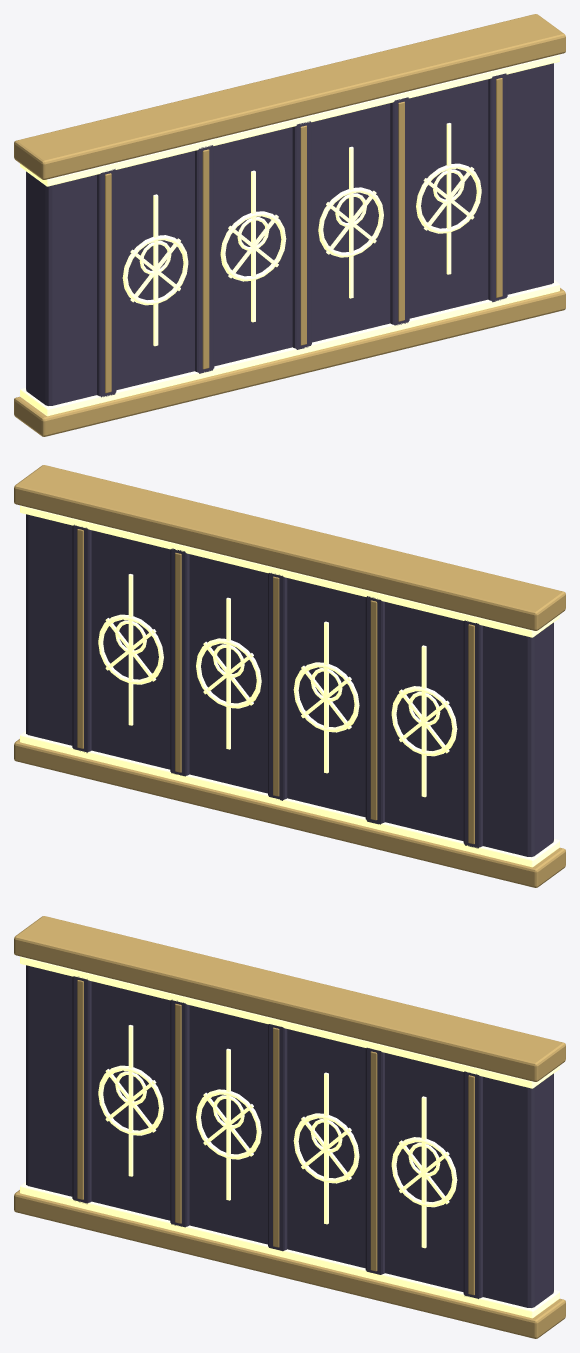
The model's file is obsidian_monolith.glb.
The picture shows the model from 3 angles, top to bottom: view 1: azimuth 30°, elevation 25°; view 2: azimuth 150°, elevation 25°; view 3: azimuth 330°, elevation 25°; orthographic projection.
Visible parts, largest first — view 1: FlutePilaster_-1.8, BaseBar, AstroAxis_-0.9_-0.39; view 2: FlutePilaster_-1.8, BaseBar, AstroAxis_-0.9_-0.39; view 3: FlutePilaster_-1.8, BaseBar, AstroAxis_-0.9_-0.39.
Boxes of the visible parts, bbox=[...] form: FlutePilaster_-1.8: bbox=[26, 63, 553, 405]; BaseBar: bbox=[14, 14, 565, 436]; AstroAxis_-0.9_-0.39: bbox=[20, 54, 559, 416]; FlutePilaster_-1.8: bbox=[26, 514, 553, 856]; BaseBar: bbox=[14, 465, 565, 887]; AstroAxis_-0.9_-0.39: bbox=[20, 505, 559, 867]; FlutePilaster_-1.8: bbox=[26, 965, 553, 1307]; BaseBar: bbox=[14, 916, 565, 1338]; AstroAxis_-0.9_-0.39: bbox=[20, 956, 559, 1318].
Size of the model in its own units: 9.65 by 4.86 by 0.96.
